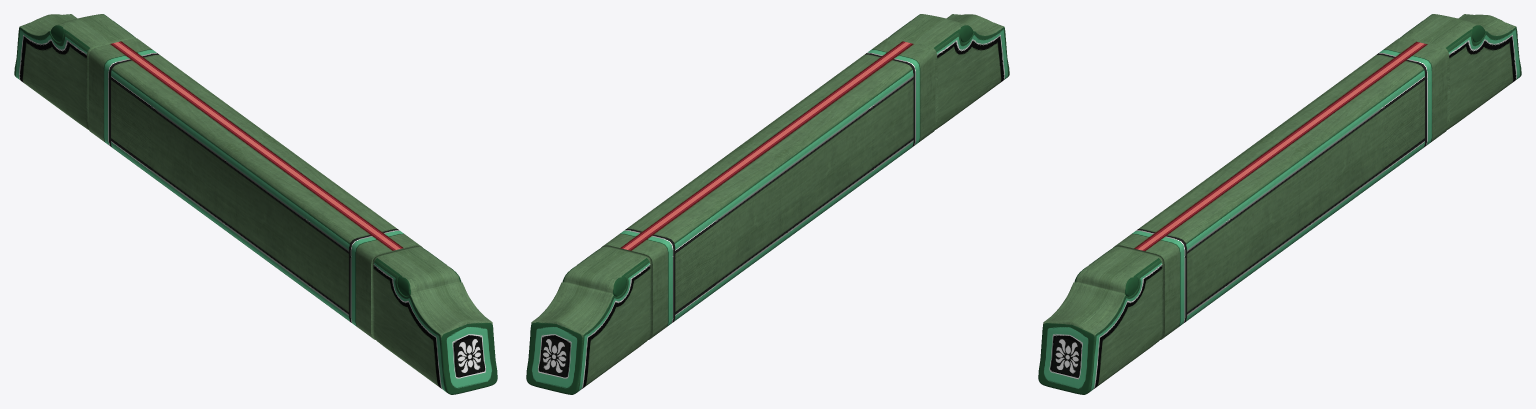
File: SM_SJJ_HG_Beam05A.fbx
3 views of the same model, side by side, from view 1: azimuth 30°, elevation 25°; view 2: azimuth 150°, elevation 25°; view 3: azimuth 330°, elevation 25° (orthographic).
Visible parts, largest first — view 1: SM_SJJ_HG_Beam05A; view 2: SM_SJJ_HG_Beam05A; view 3: SM_SJJ_HG_Beam05A.
Boxes of the visible parts, <box> form: SM_SJJ_HG_Beam05A: <box>14,14,497,394</box>; SM_SJJ_HG_Beam05A: <box>526,14,1009,394</box>; SM_SJJ_HG_Beam05A: <box>1038,14,1521,394</box>.
Size of the model in its own units: 21.9 by 314 by 34.22.
Materials: 1 (1 with a texture image).
